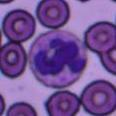N: (28, 29, 88, 88)
